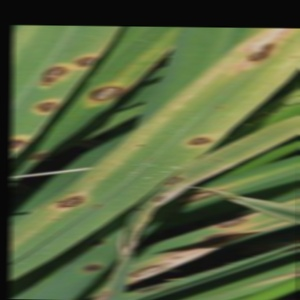Bacterial_Leaf_Blight: (218, 28, 295, 70), (76, 75, 127, 115), (33, 56, 74, 92), (26, 89, 64, 122), (126, 257, 177, 281), (177, 125, 220, 153), (51, 187, 91, 215), (66, 45, 102, 74), (213, 211, 250, 235), (12, 126, 33, 161), (72, 257, 110, 276), (160, 168, 187, 188), (147, 189, 172, 208), (93, 199, 106, 210), (132, 140, 146, 150), (132, 205, 145, 214), (37, 202, 48, 211), (52, 214, 63, 223), (215, 100, 224, 110)
